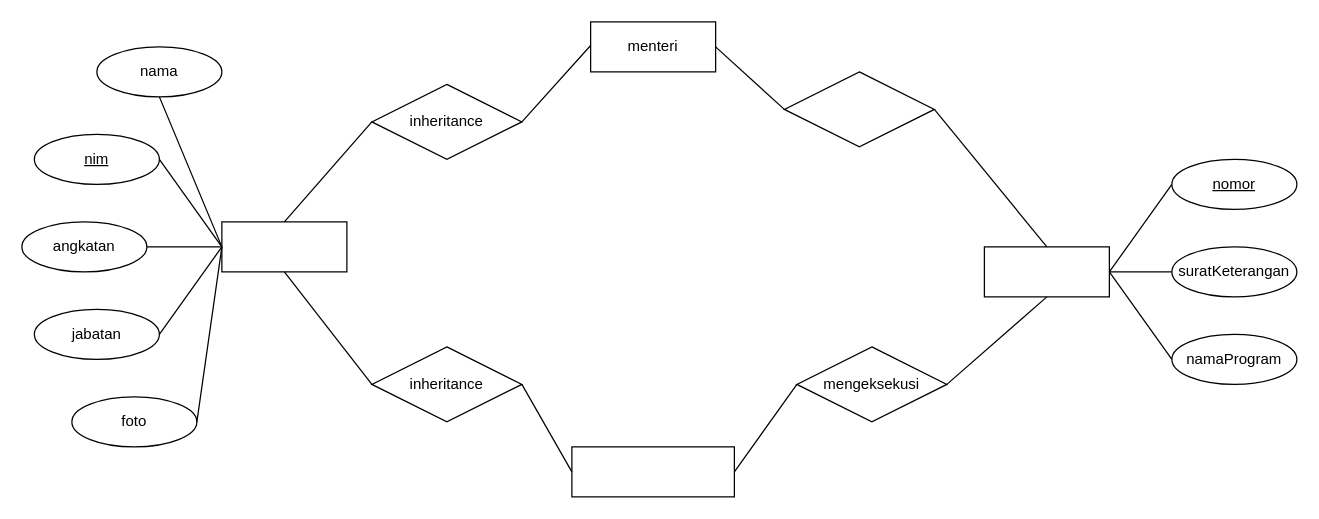
The diagram is 1319 pixels wide and 519 high, and some of its shapes have lost their labels. The shapes that lost their labels are listed below. From the top down, each one's centre as x and y in pixels, then its label:
[858,109]: memonitoring
[284,246]: pengurusBEM
[1046,271]: programKerja
[652,471]: kepalaDepartemen
